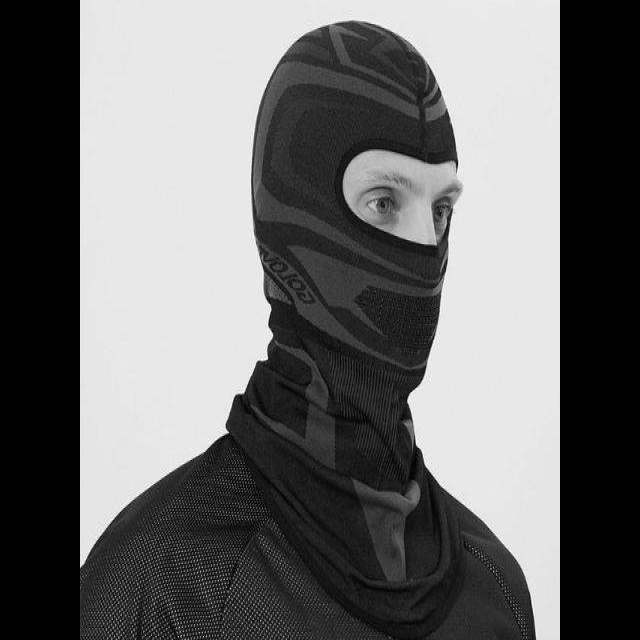6_pasamontana: (227, 18, 466, 638)
